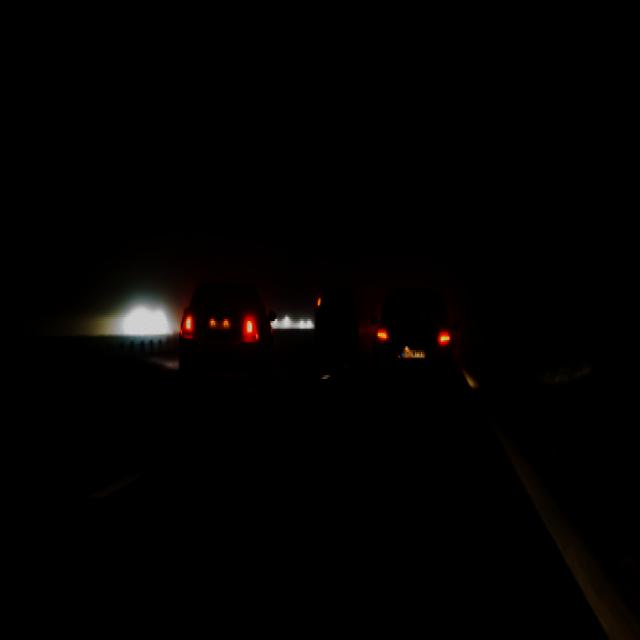Car: (180, 285, 277, 399), (370, 290, 461, 391), (316, 288, 359, 353)
